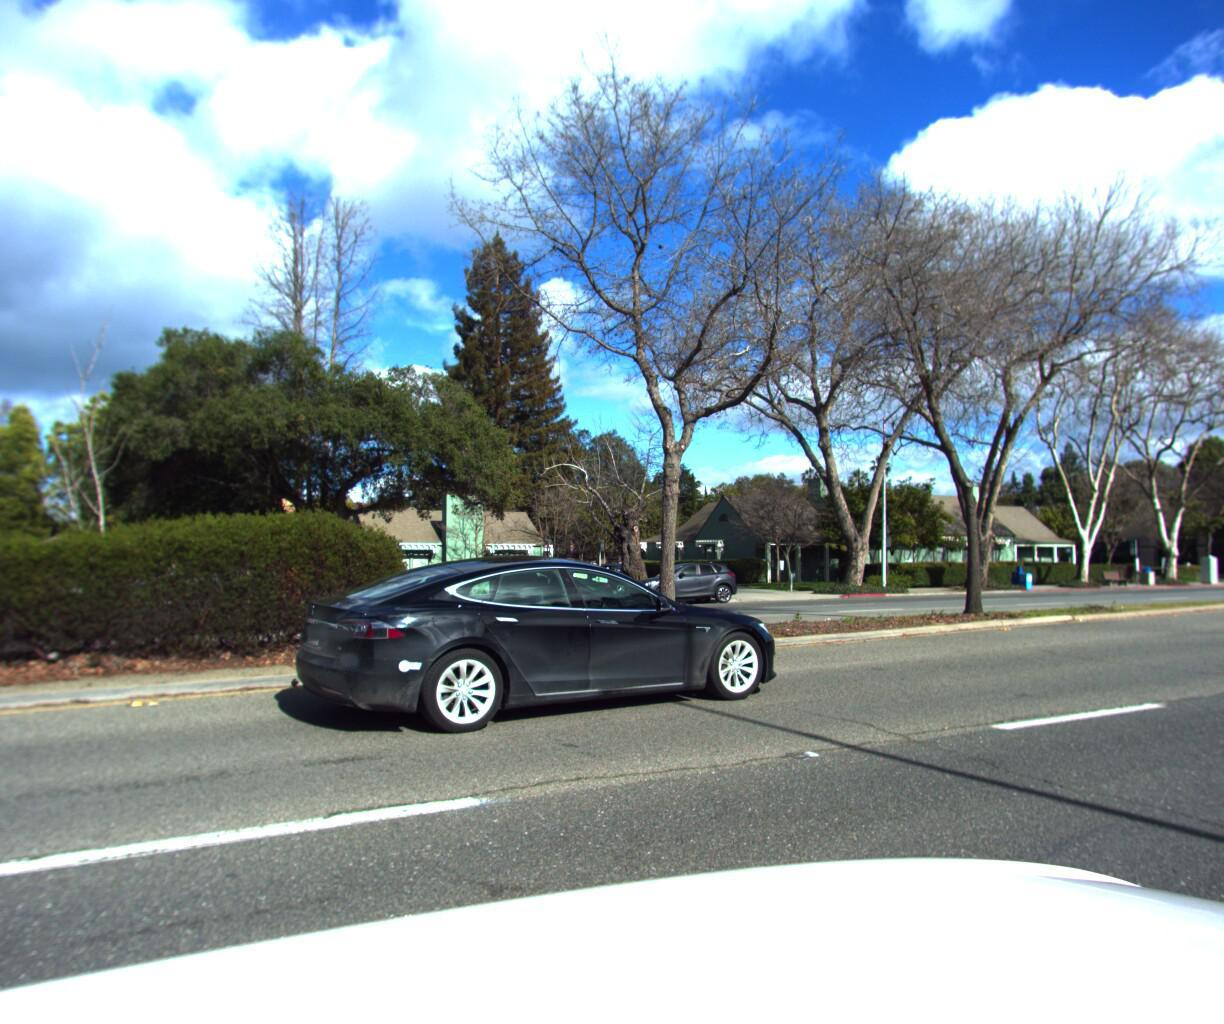car: (265, 534, 804, 748), (617, 556, 744, 605), (562, 560, 642, 588)
